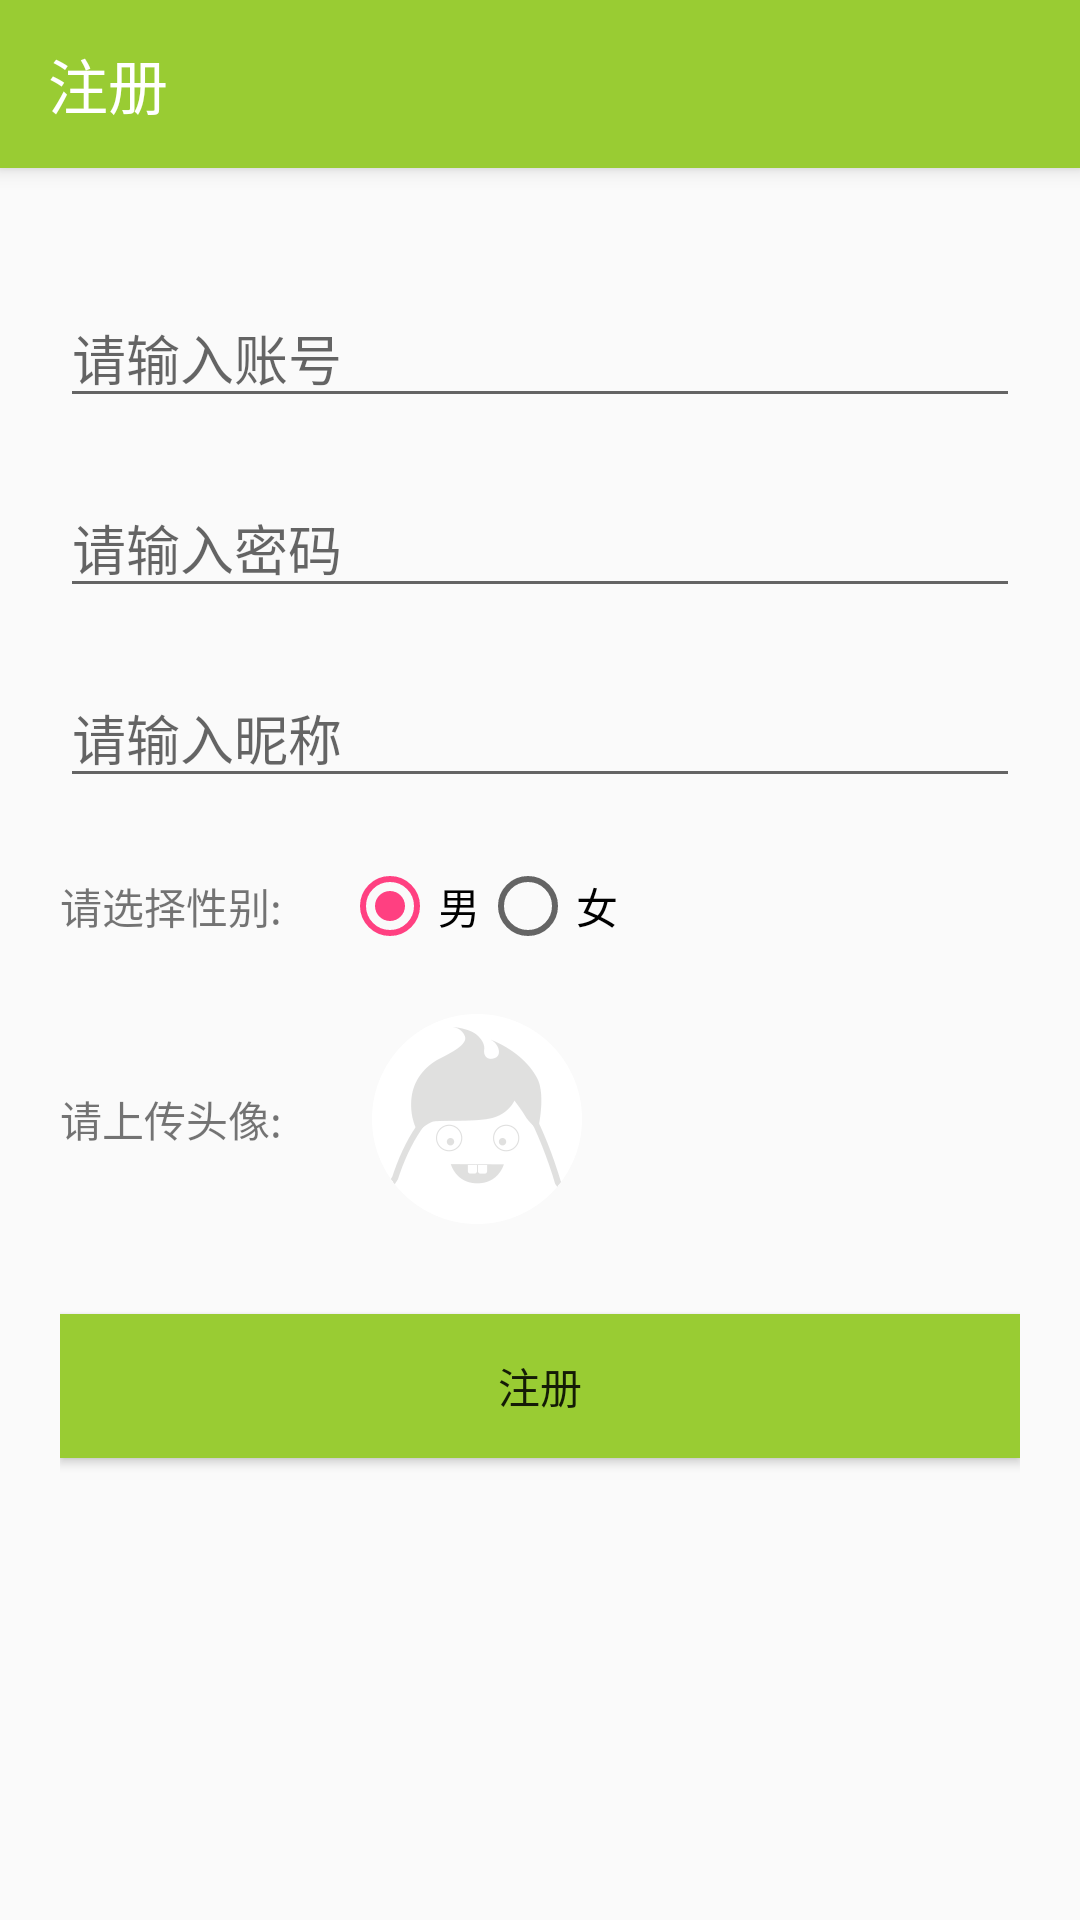

Named icons in this screenshot (1080×1920) and their bounding boxes, (x1, y1, x2, y2):
personal user: (392, 1028, 561, 1186)
